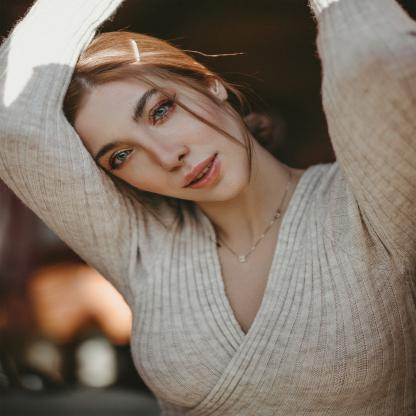Eye: (149, 97, 177, 129), (108, 146, 137, 172)
Mouth: (178, 149, 223, 191)
Nose: (136, 133, 189, 170)
